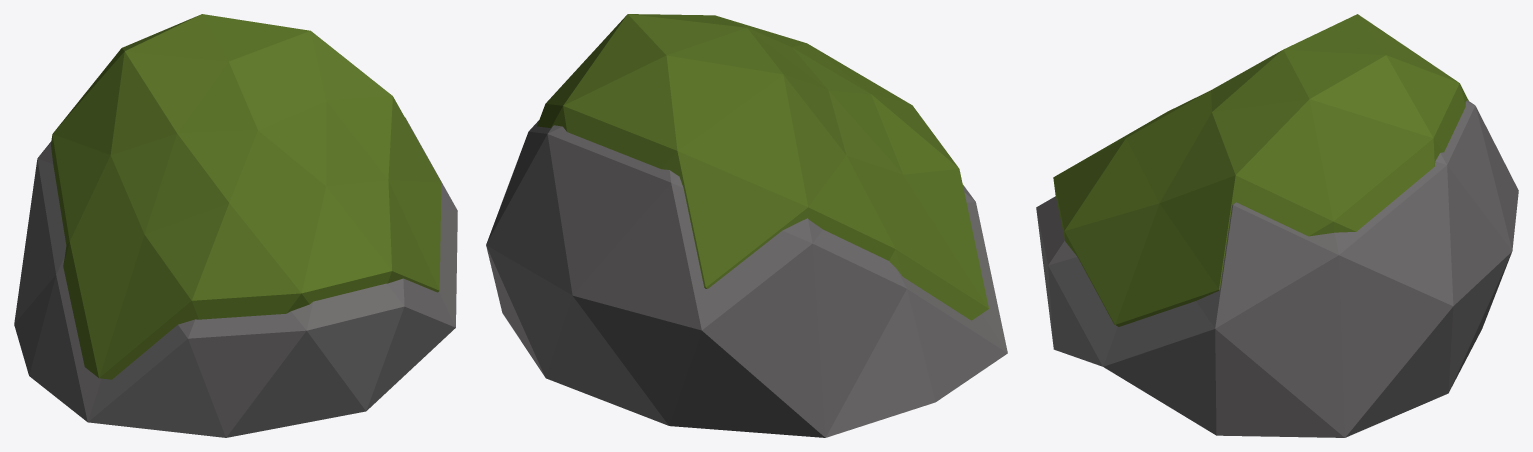
Rendered from MossyRock_3.fbx.
3 renders of one model, left to right at view 1: azimuth 30°, elevation 25°; view 2: azimuth 150°, elevation 25°; view 3: azimuth 270°, elevation 25°, orthographic. The views are drawn at different scales.
Visible parts, largest first — view 1: Tree_assets:pasted__pSolid10; view 2: Tree_assets:pasted__pSolid10; view 3: Tree_assets:pasted__pSolid10.
Part boxes in pixels (x1=…): Tree_assets:pasted__pSolid10: x1=14, y1=14, x2=457, y2=437; Tree_assets:pasted__pSolid10: x1=486, y1=14, x2=1007, y2=437; Tree_assets:pasted__pSolid10: x1=1036, y1=14, x2=1518, y2=437.
Size of the model in its own units: 1.93 by 1.38 by 2.02.
